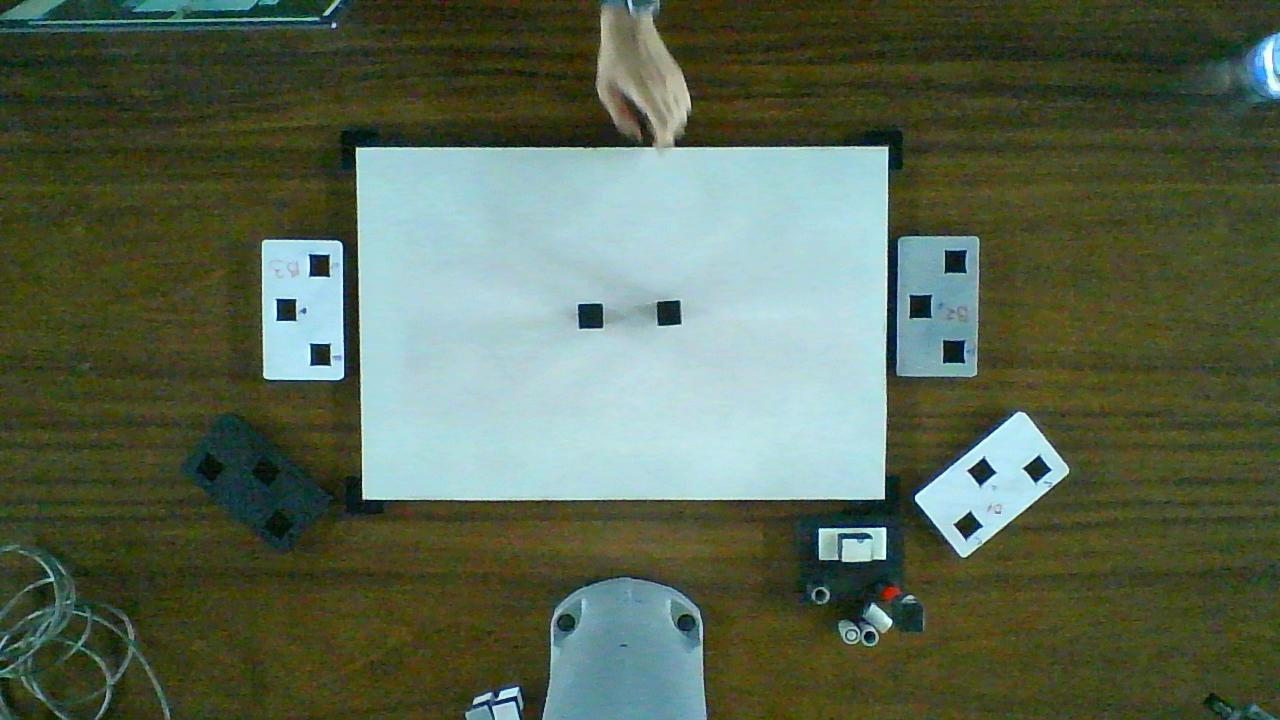peca_preta: (579, 304, 601, 327), (659, 302, 680, 326)
